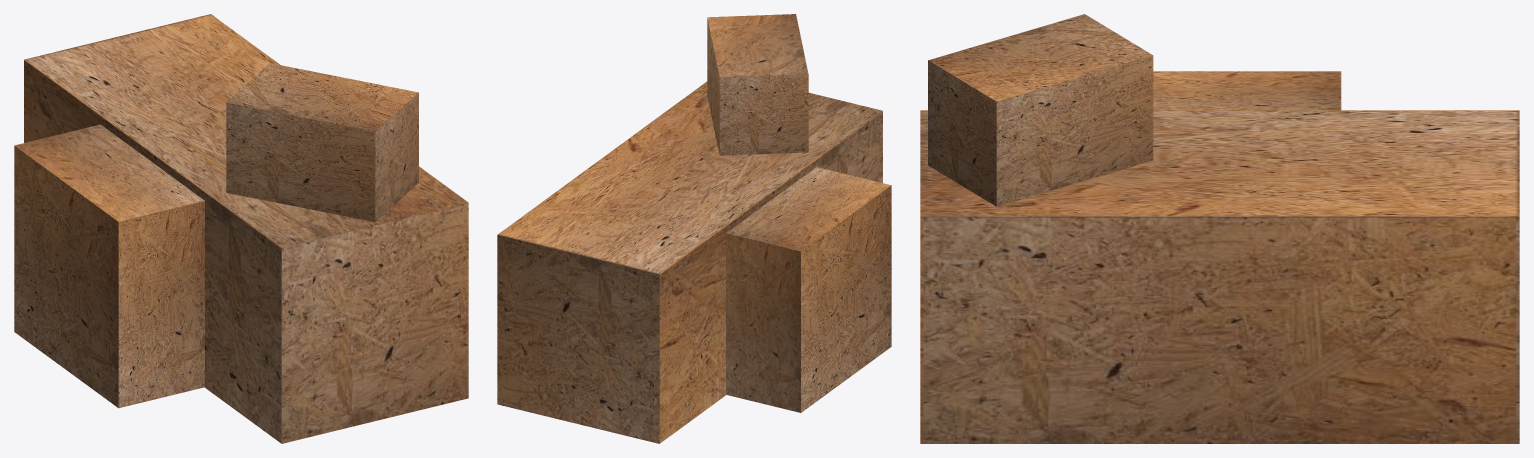
File: crate.fbx
3 renders of one model, left to right at view 1: azimuth 30°, elevation 25°; view 2: azimuth 150°, elevation 25°; view 3: azimuth 270°, elevation 25°, orthographic. The views are drawn at different scales.
Visible parts, largest first — view 1: Cube; view 2: Cube; view 3: Cube.
Boxes of the visible parts, x1,y1,x2,y2 form: Cube: (14,14,468,443); Cube: (497,14,891,443); Cube: (920,14,1519,443).
Bounding box in the file's own units: 614 × 614 × 1003.
1 material, 1 textured.
